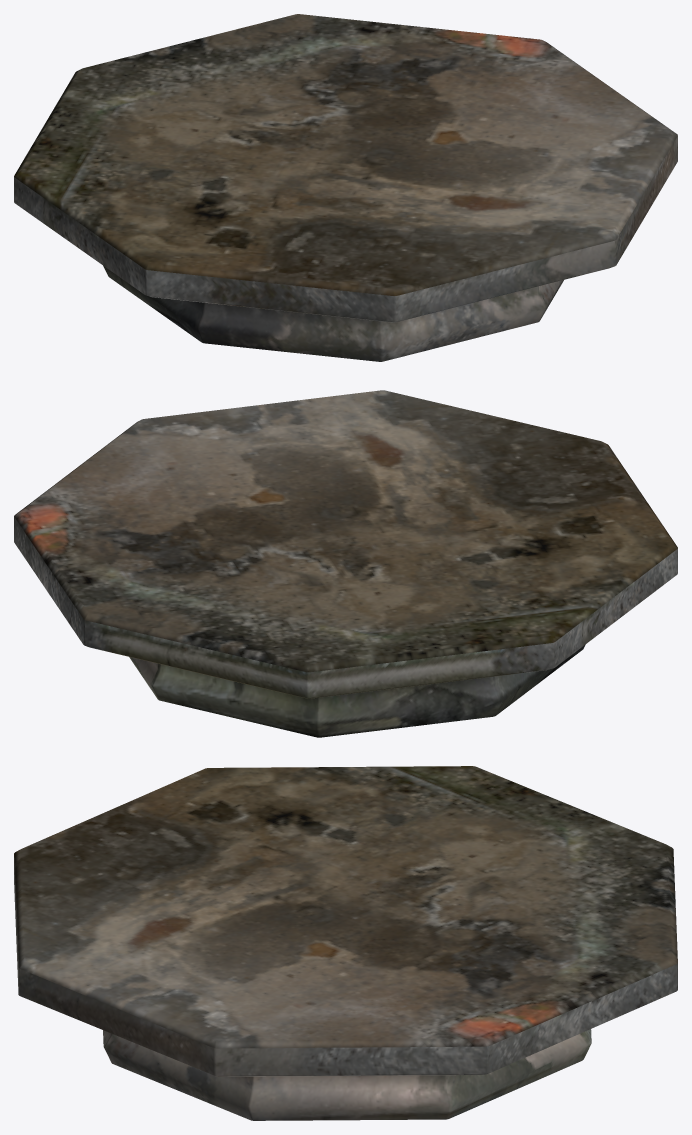
Rendered from SM_ChapelColumnTop_01_02.fbx.
3 views of the same model, one above another, from view 1: azimuth 30°, elevation 25°; view 2: azimuth 150°, elevation 25°; view 3: azimuth 270°, elevation 25° (orthographic). The views are drawn at different scales.
Parts seen in each view (by area): view 1: sm_ChapelColumnTop_01_02_LOD0; view 2: sm_ChapelColumnTop_01_02_LOD0; view 3: sm_ChapelColumnTop_01_02_LOD0.
Part boxes in pixels (x1,y1,x2,y2): sm_ChapelColumnTop_01_02_LOD0: [14, 14, 677, 361]; sm_ChapelColumnTop_01_02_LOD0: [14, 390, 677, 737]; sm_ChapelColumnTop_01_02_LOD0: [14, 766, 677, 1120].
Bounding box in the file's own units: 117 × 117 × 22.68.
